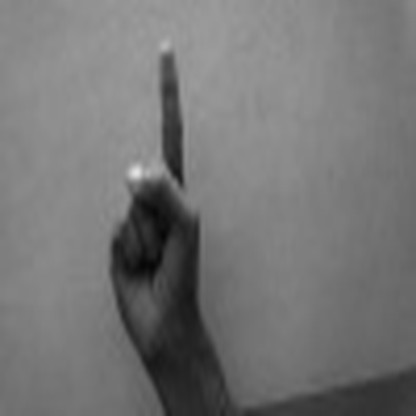d: (91, 36, 218, 364)
